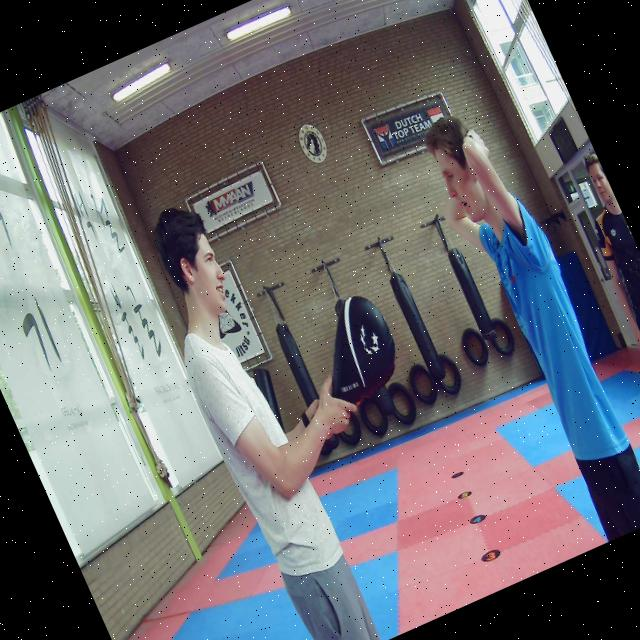paddle: (330, 295, 401, 405)
